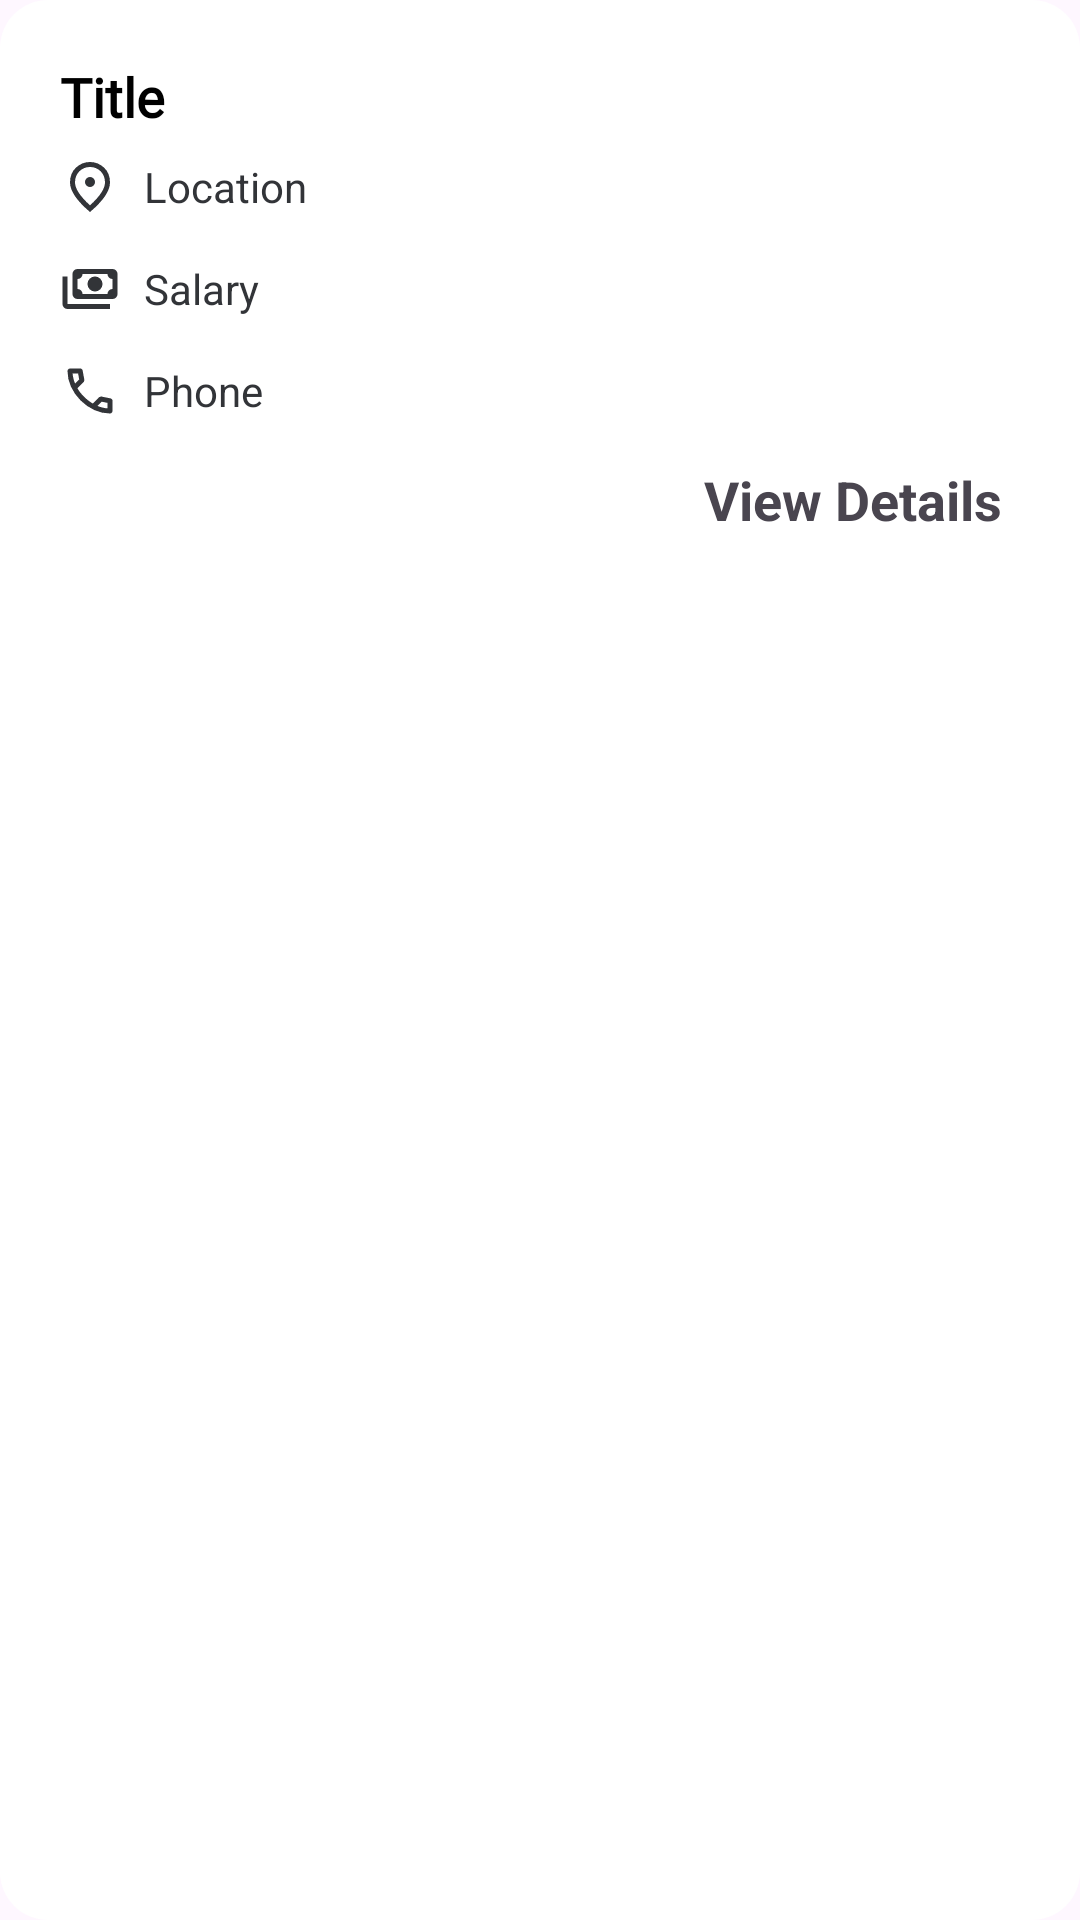

Icons on this 1080x1920 Android screen, each with the point to tap as (x,y):
contact: (90,391)
payment: (90,289)
